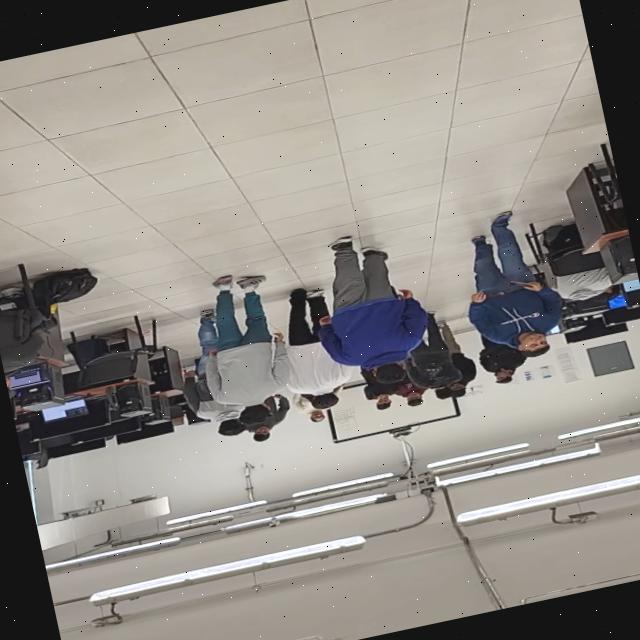Persona: (318, 242, 421, 392), (461, 220, 564, 364), (215, 277, 282, 427), (276, 289, 346, 412), (178, 344, 246, 444), (411, 336, 462, 403), (362, 374, 402, 416), (479, 354, 520, 389), (295, 399, 332, 426), (242, 419, 276, 442)
